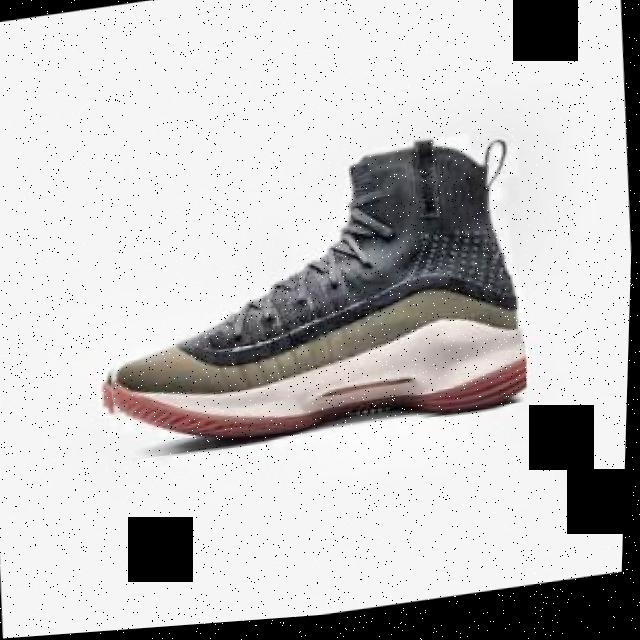shoe: (89, 134, 536, 465)
